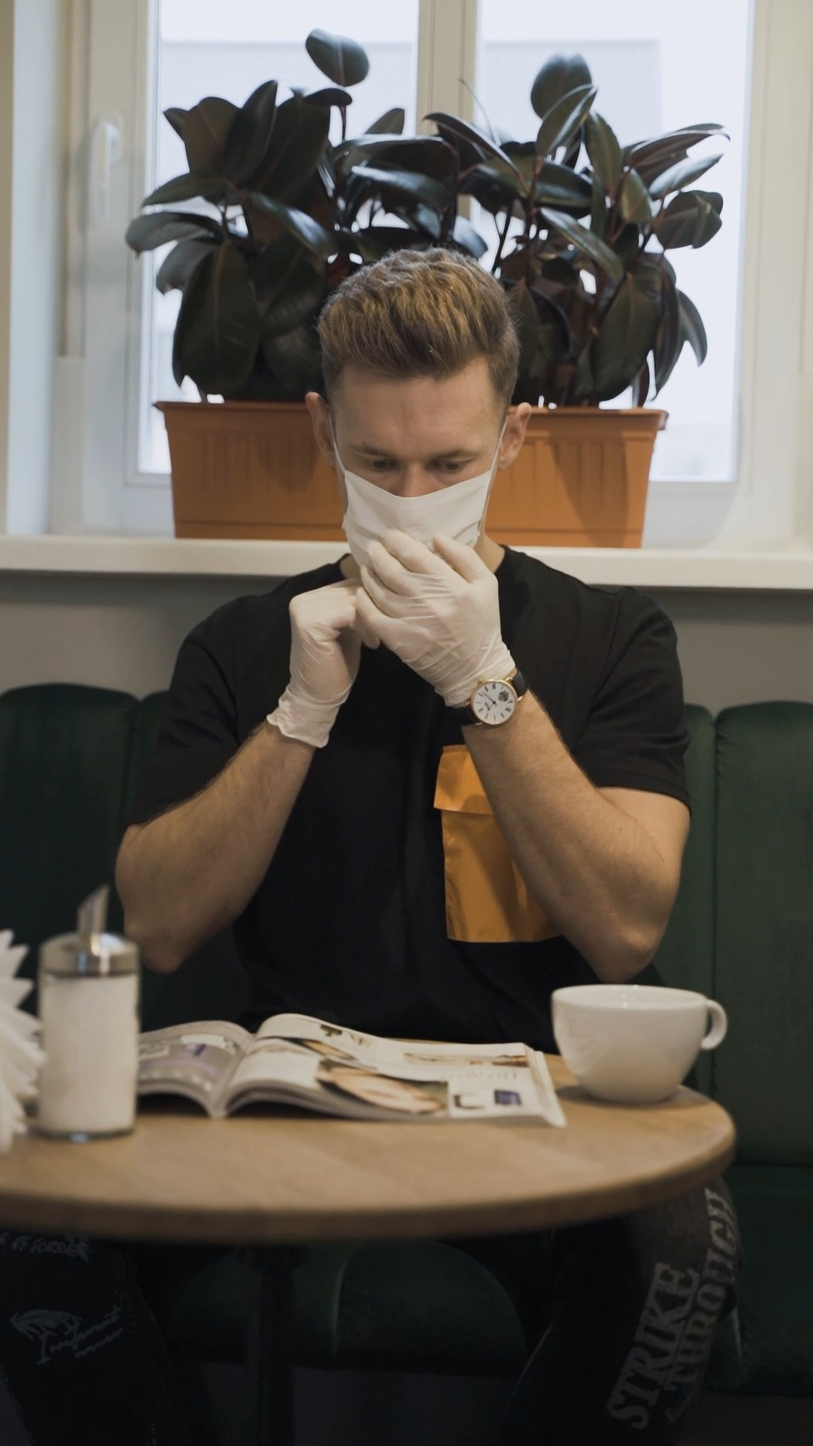gloves: (306, 525, 565, 685), (272, 568, 396, 758)
